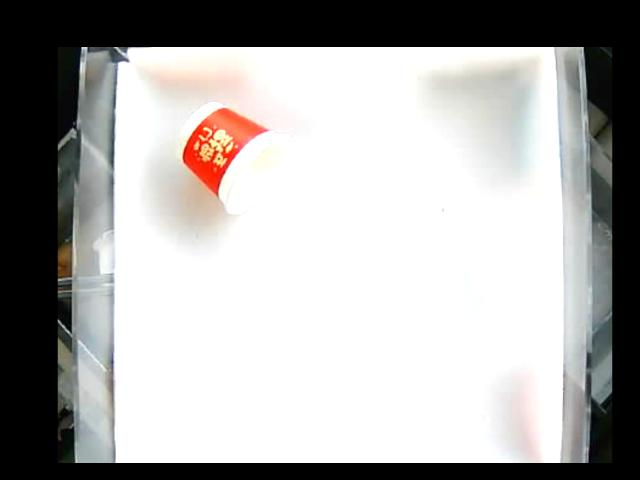Cup: (171, 101, 292, 215)
